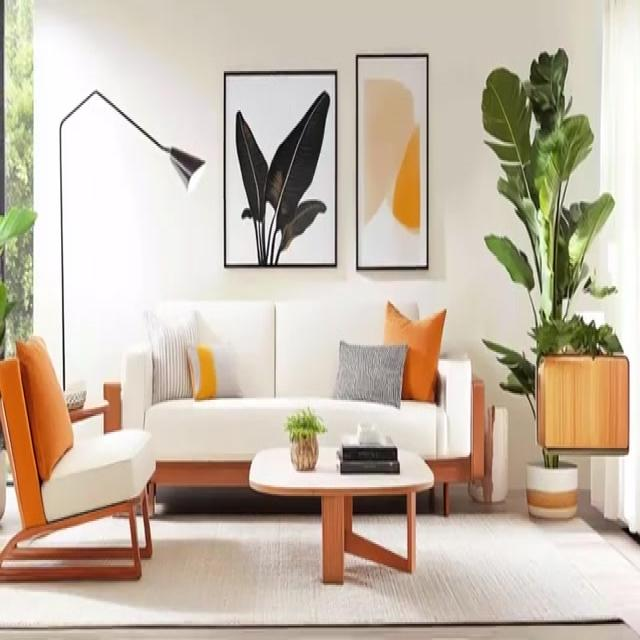obstacle: (119, 297, 481, 515), (0, 334, 156, 582), (248, 445, 434, 583)
